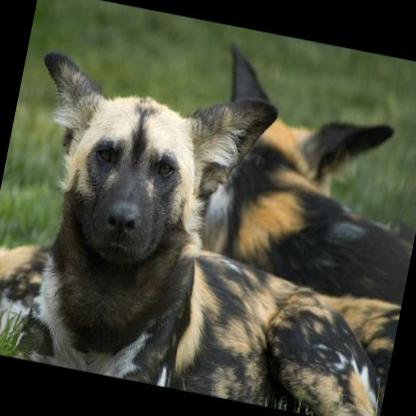African_hunting_dog: (0, 45, 416, 416), (173, 35, 416, 303)
